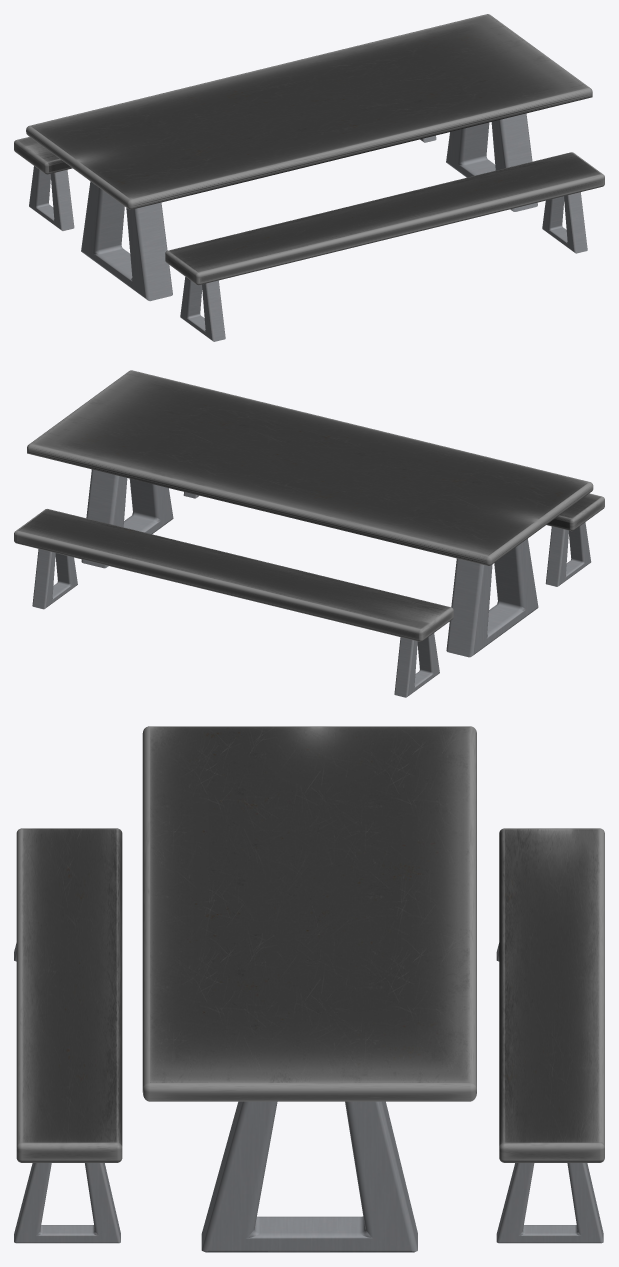
File: sci-fi-ish_cafeteria_table.glb
The picture shows the model from 3 angles, top to bottom: view 1: azimuth 30°, elevation 25°; view 2: azimuth 150°, elevation 25°; view 3: azimuth 270°, elevation 25°; orthographic projection. The views are drawn at different scales.
Parts seen in each view (by area): view 1: pCube1, pCube4, polySurface2, polySurface1, polySurface8, polySurface7, polySurface9, pCube3; view 2: pCube1, pCube3, polySurface2, polySurface1, polySurface7, polySurface8, polySurface6, pCube4; view 3: pCube1, pCube4, pCube3, polySurface1, polySurface6, polySurface9.
Part boxes in pixels (<box>): pCube1: <box>26,14,592,209</box>; pCube4: <box>165,152,604,285</box>; polySurface2: <box>81,181,172,301</box>; polySurface1: <box>446,113,537,211</box>; polySurface8: <box>180,277,225,341</box>; polySurface7: <box>29,166,74,230</box>; polySurface9: <box>542,192,587,253</box>; pCube3: <box>14,137,72,174</box>; pCube1: <box>27,370,593,565</box>; pCube3: <box>14,509,453,641</box>; polySurface2: <box>446,538,538,657</box>; polySurface1: <box>81,469,173,568</box>; polySurface7: <box>394,633,439,697</box>; polySurface8: <box>545,522,591,586</box>; polySurface6: <box>32,549,77,609</box>; pCube4: <box>546,493,604,531</box>; pCube1: <box>142,726,476,1101</box>; pCube4: <box>16,828,122,1162</box>; pCube3: <box>499,828,604,1162</box>; polySurface1: <box>201,1101,417,1252</box>; polySurface6: <box>496,1163,603,1243</box>; polySurface9: <box>14,1163,120,1243</box>.
Size of the model in its own units: 2.56 by 0.6444 by 1.77.
2 materials, 2 textured.
